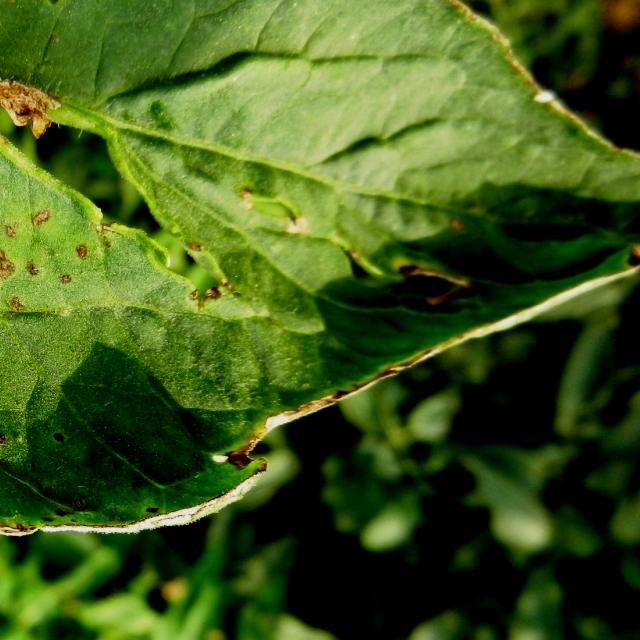Tomato leaf bacterial spot: (0, 0, 629, 566)
